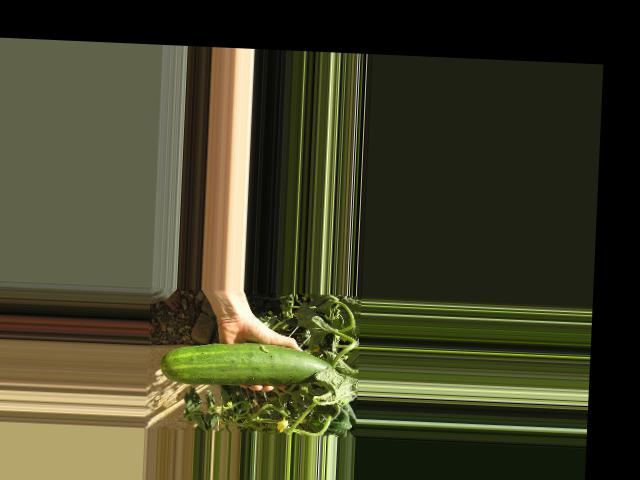cucumber: (159, 339, 335, 390)
